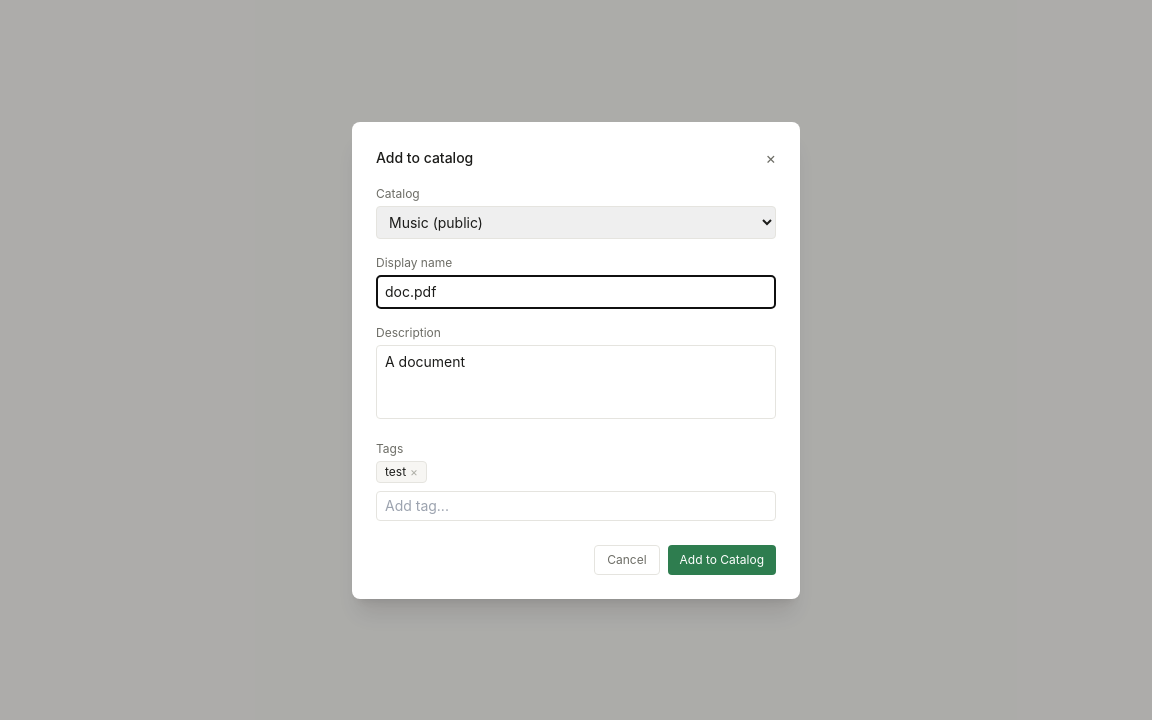
PublishModal › add button is disabled when display name is empty
Clear the field showing "doc.pdf" at (576, 292), box [376,274,776,308]
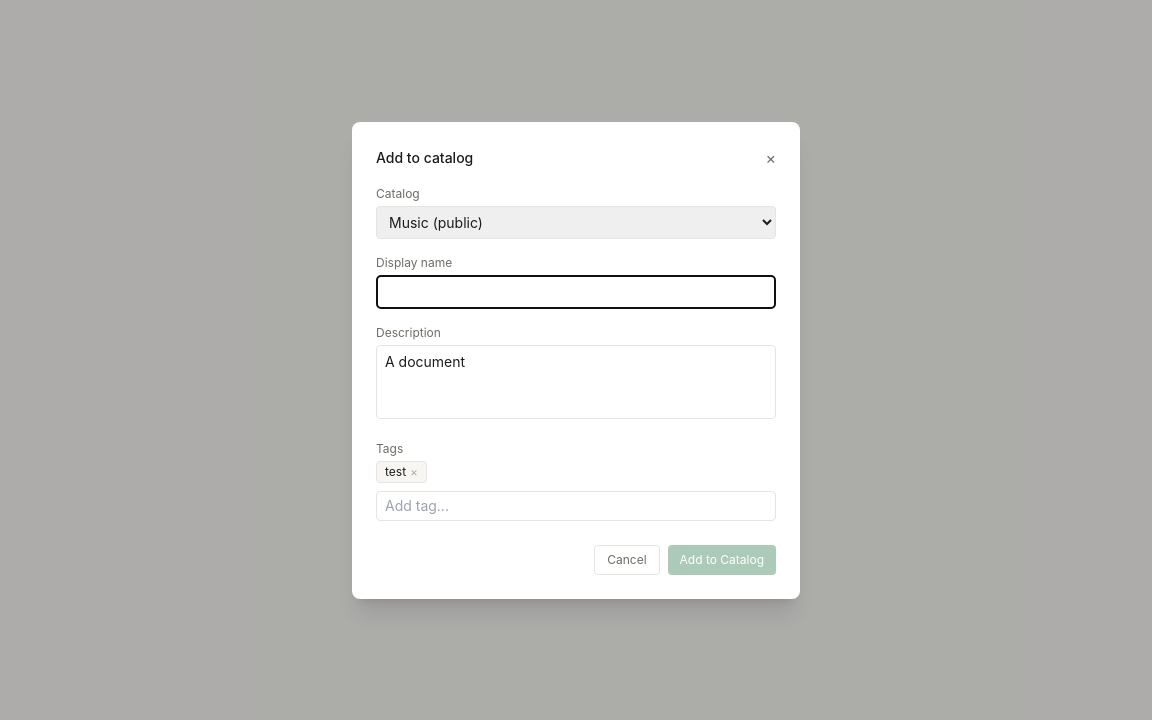
Check: the button "Add to Catalog" is disabled, box [668,544,776,574]
